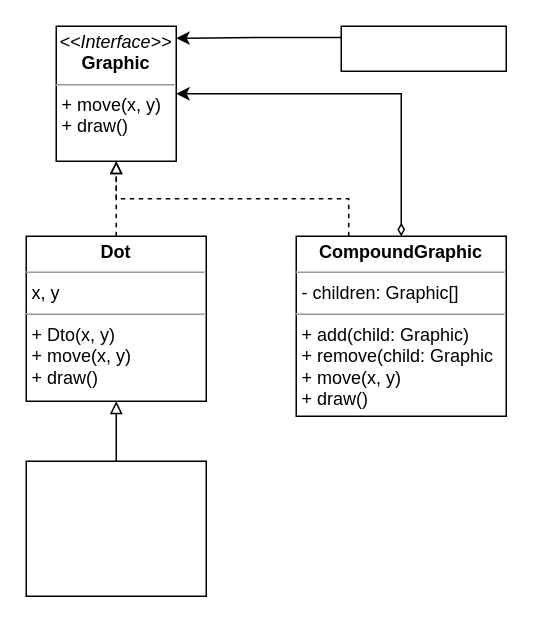
This 533x623 diagram has some shape labels left out. The centre of each missing label's shape, as x and y in pixels:
"Circle radius + Circle(x, y, radius) + draw()" belongs at [115,528].
"ImageEditor" belongs at [423,48].
